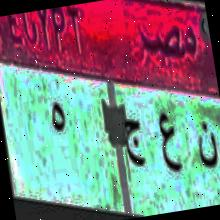5: (44, 95, 74, 146)
ain: (152, 104, 184, 180)
jeem: (119, 110, 151, 176)
noon: (190, 116, 220, 172)
